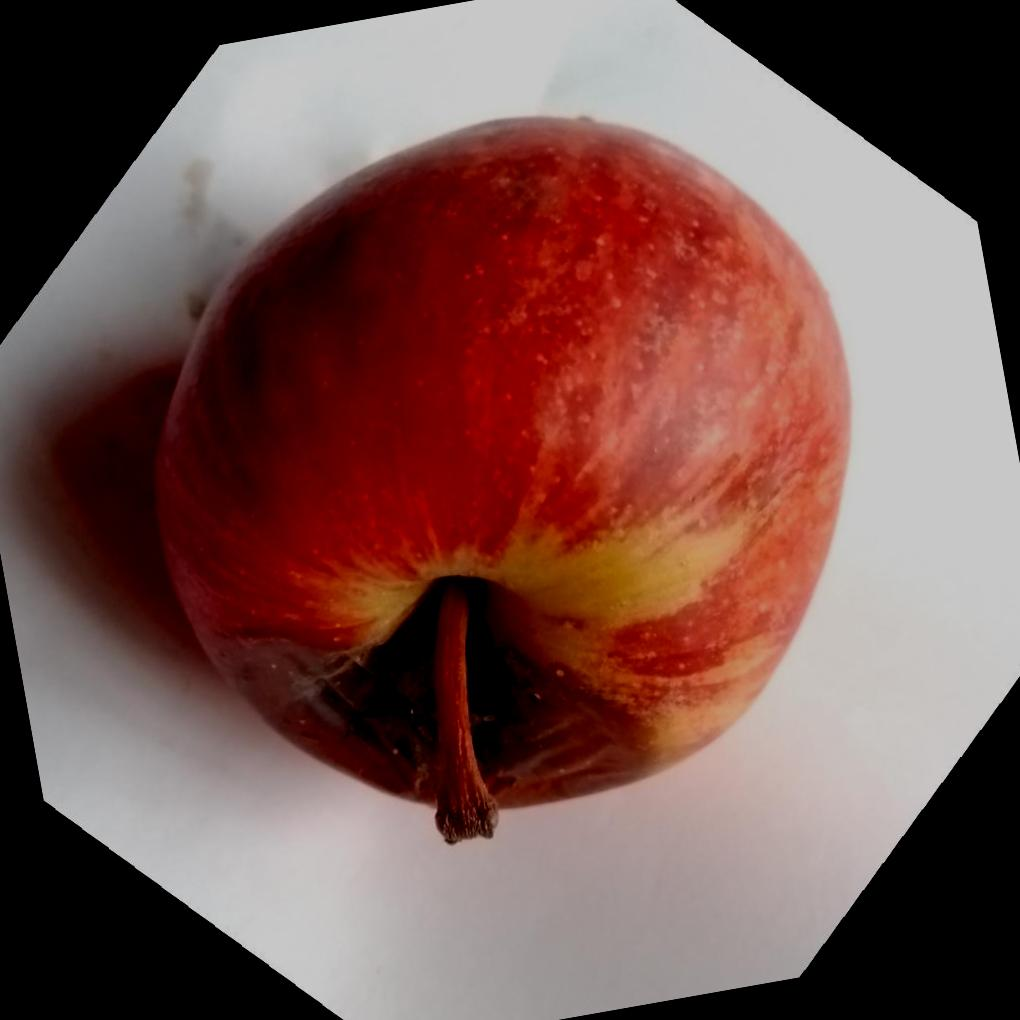FreshOrange: (154, 109, 857, 845)
